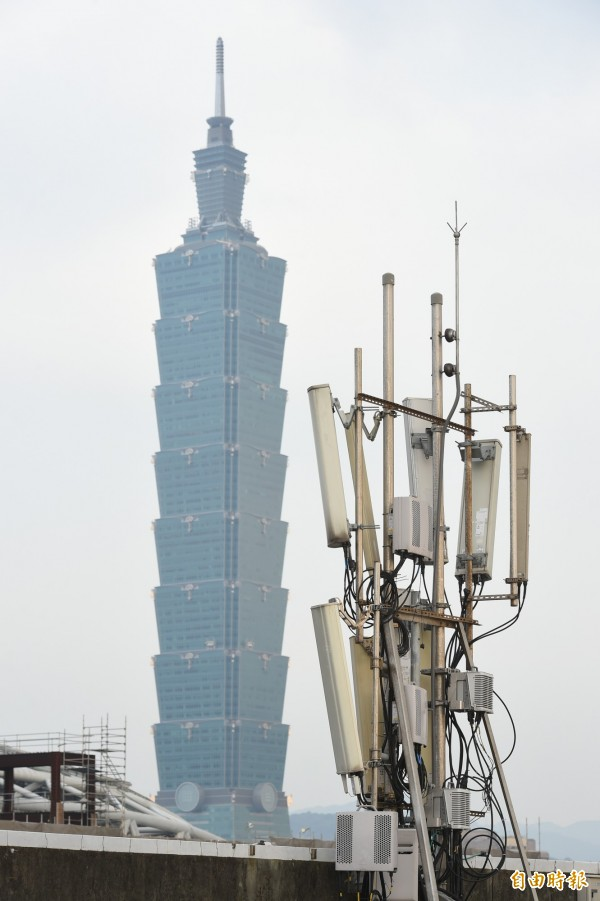a: (308, 599, 366, 782), (398, 390, 451, 565), (303, 380, 355, 552), (455, 435, 502, 581), (507, 428, 538, 588)
